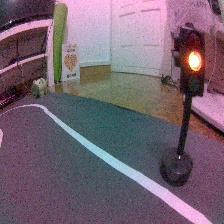amber: (159, 19, 209, 193)
